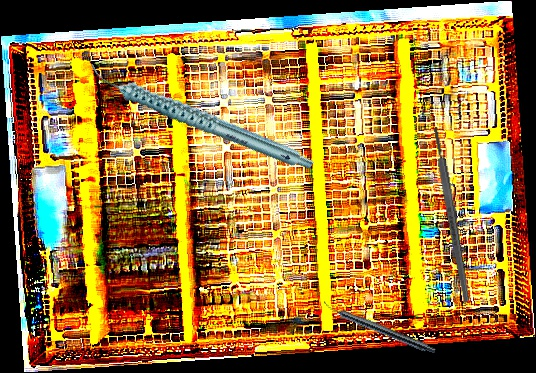Handpiece: (86, 22, 315, 212), (320, 299, 438, 356)
Scalpel Handle: (430, 126, 472, 303)
